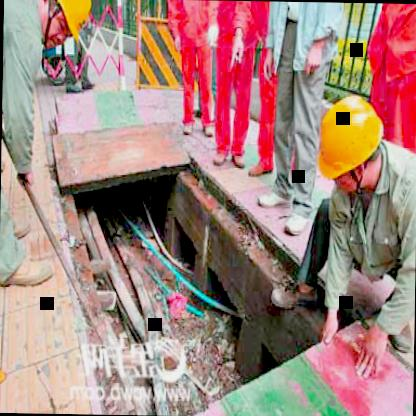helmet: (312, 87, 393, 202), (39, 0, 91, 49)
